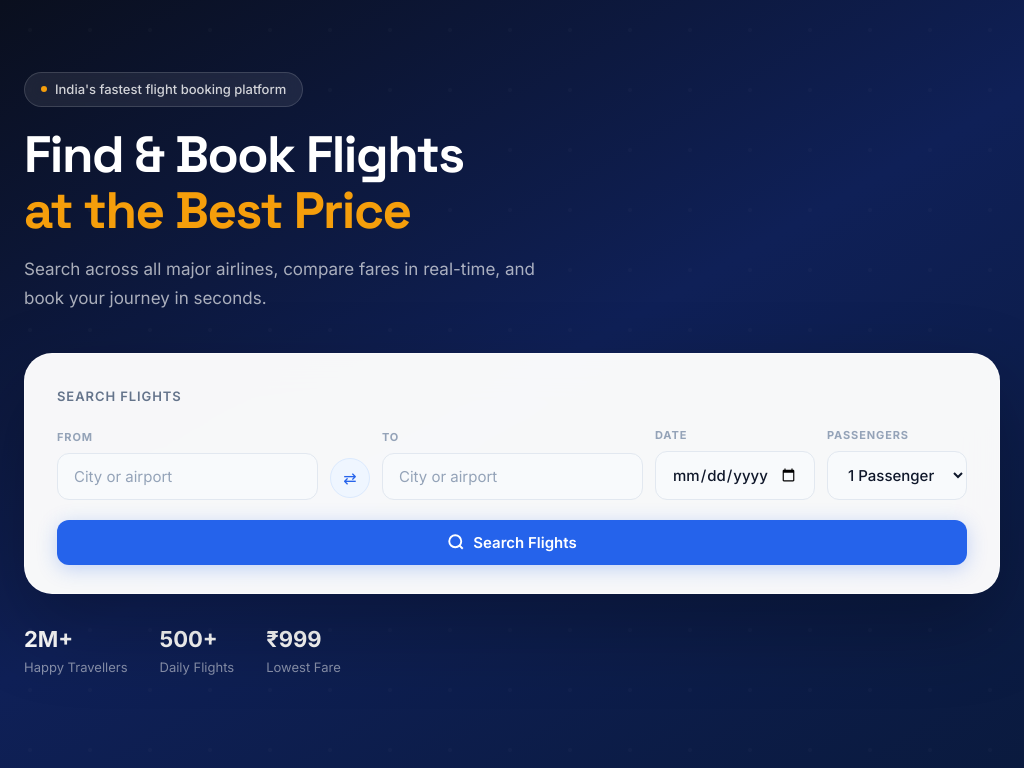
Test: HomePage — search form › swap button swaps source and destination values
In the 1st field with placeholder "City or airport": (188, 476) [57, 453, 318, 500], type "Kolkata"
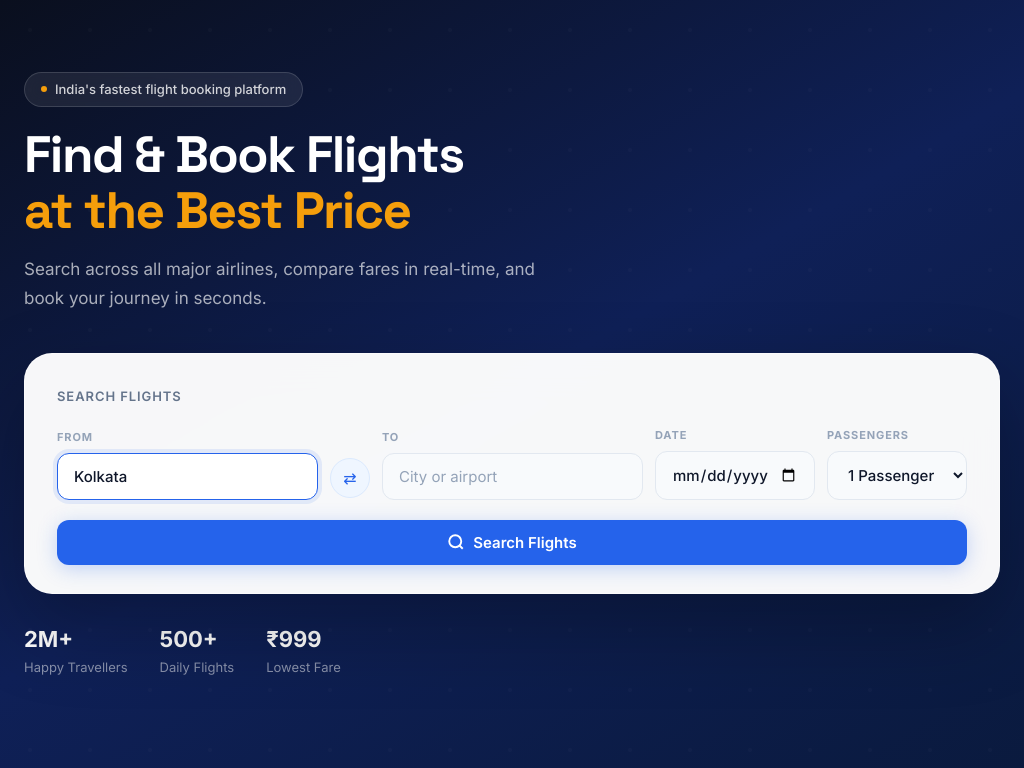
In the field with placeholder "City or airport": (512, 476) [382, 453, 643, 500], type "Chennai"
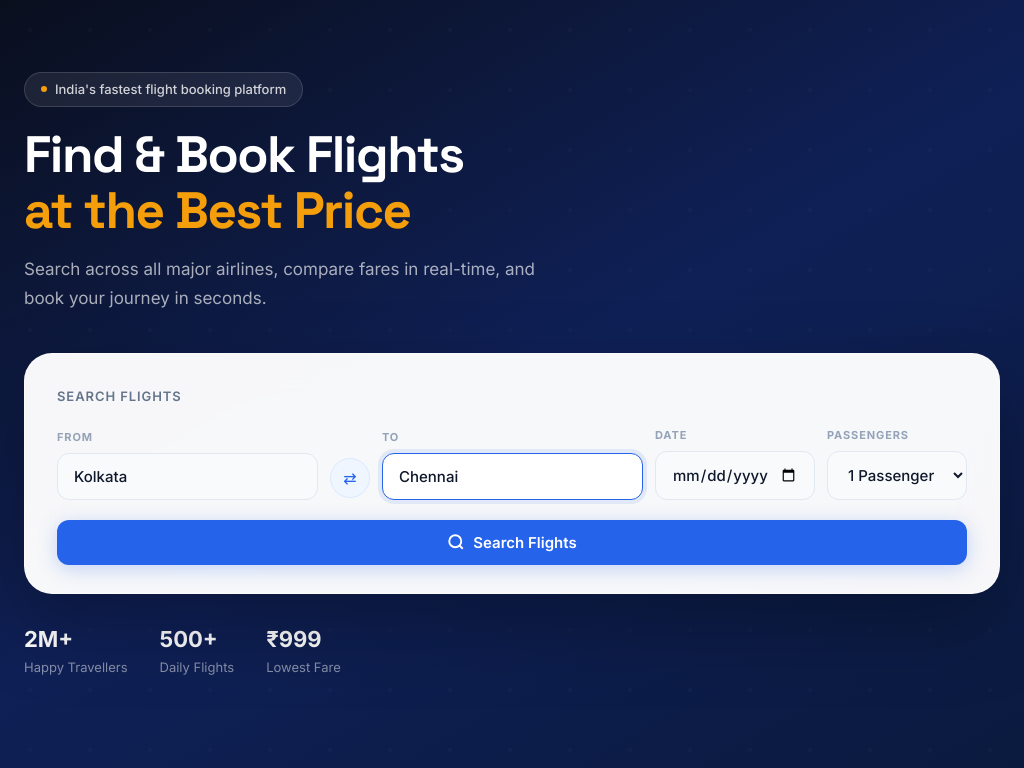
Click the button titled "Swap cities": click(350, 478) [330, 458, 370, 498]
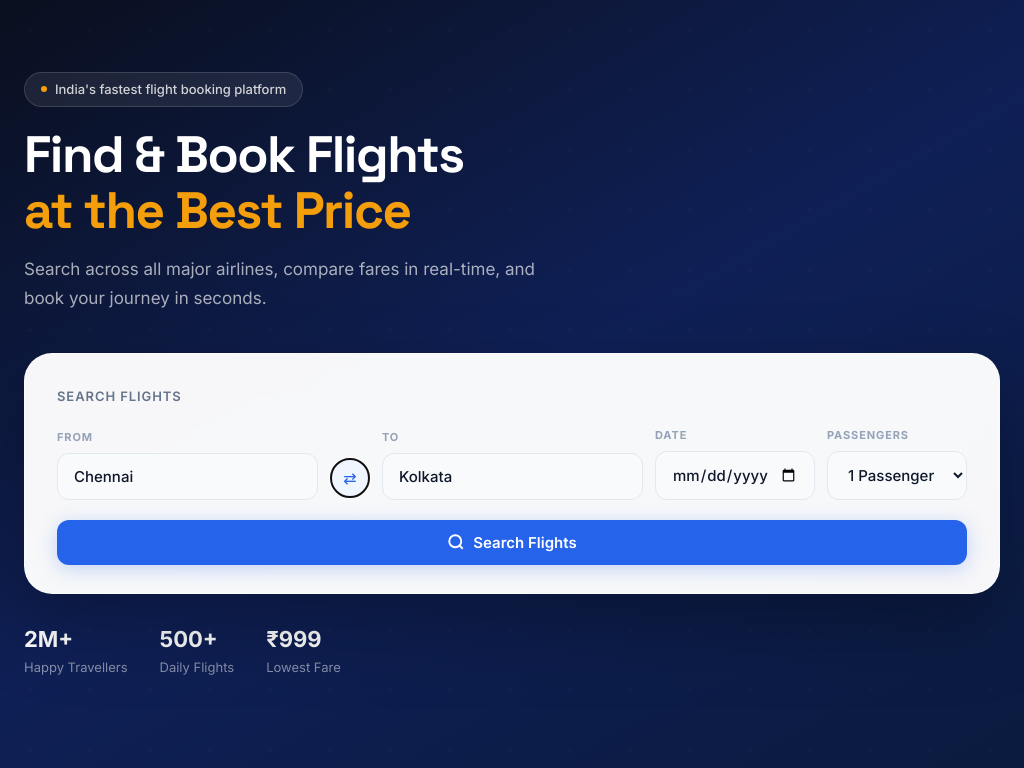
Now the 1st field with placeholder "City or airport" holds "Chennai", box [57, 453, 318, 500]
Now the 2nd field with placeholder "City or airport" holds "Kolkata", box [382, 453, 643, 500]
